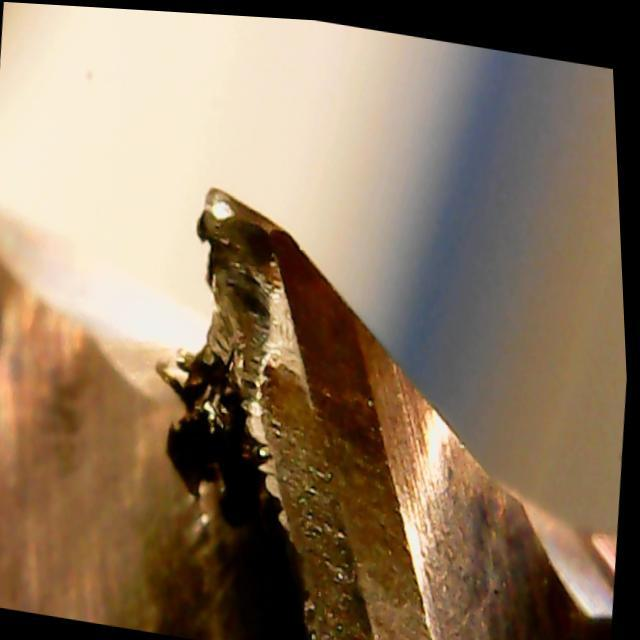Tool-wear-class-3: (157, 172, 380, 435)
